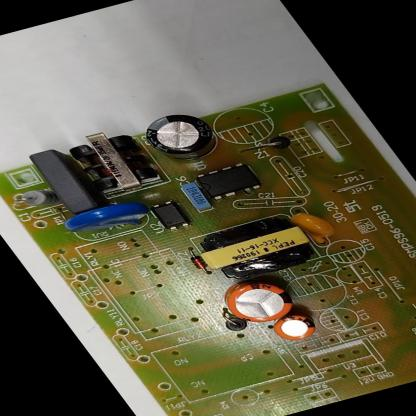Cap1: (215, 274, 304, 328)
Cap2: (268, 312, 320, 345)
Cap3: (135, 108, 225, 166)
MOSFET: (195, 162, 263, 201)
Mov: (57, 198, 154, 240)
Resistor: (12, 186, 61, 211)
Transformer: (190, 212, 324, 284), (62, 126, 165, 197)
